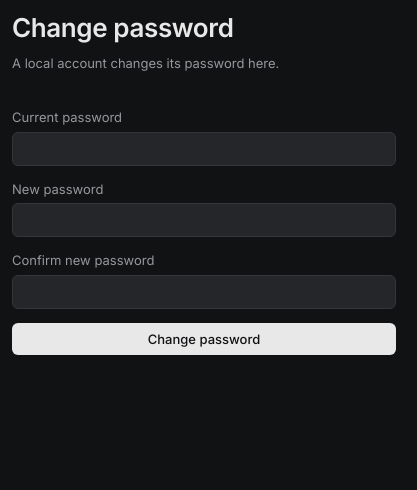
Test: PasswordChange › lists every 422 reason as sent
The width and height of the screenshot is (417, 490).
Step 1. Type "old-password-1" into the password field labelled "Current password" → coordinates (204, 148), box [12,132,396,166]
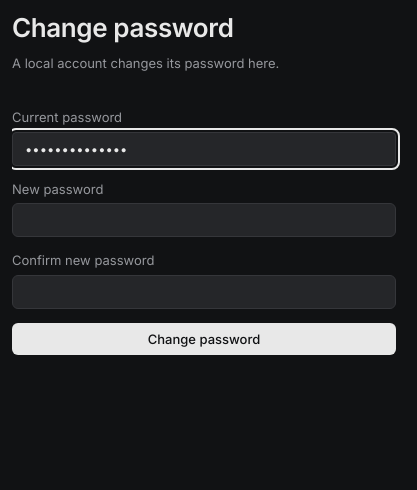
Step 2. Type "new-password-1" into the password field labelled "New password" → coordinates (204, 220), box [12,203,396,237]
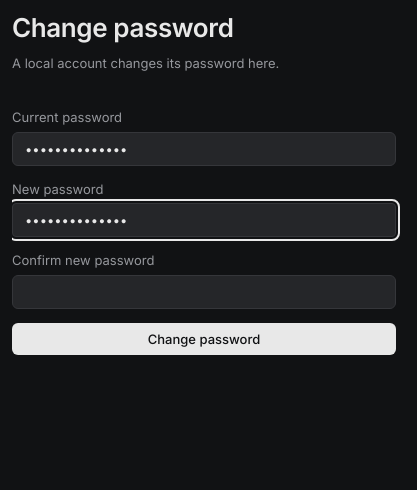
Step 3. Type "new-password-1" into the password field labelled "Confirm new password" → coordinates (204, 292), box [12,274,396,308]
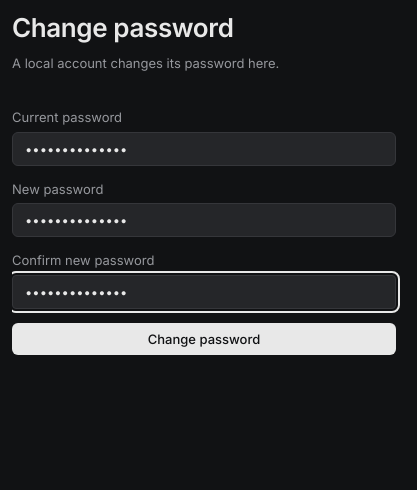
Step 4. Click the button "Change password" → coordinates (204, 338), box [12,322,396,354]
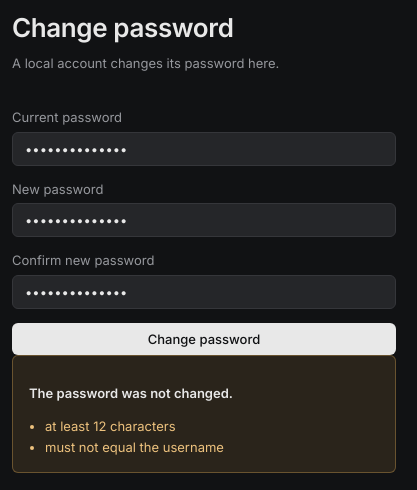
Expected: the message shows "The password was not changed.", [29,384,233,400]
Expected: the message shows "at least 12 characters", [45,418,176,434]
Expected: the message shows "must not equal the username", [45,439,224,455]
